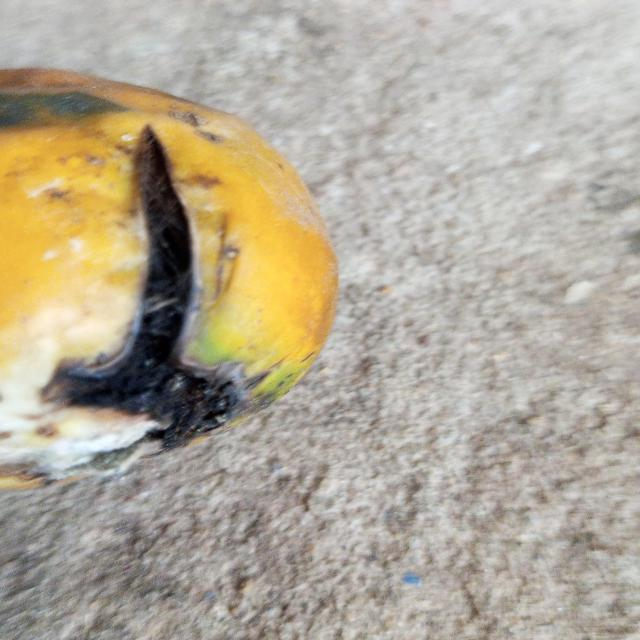damaged: (0, 67, 339, 490)
